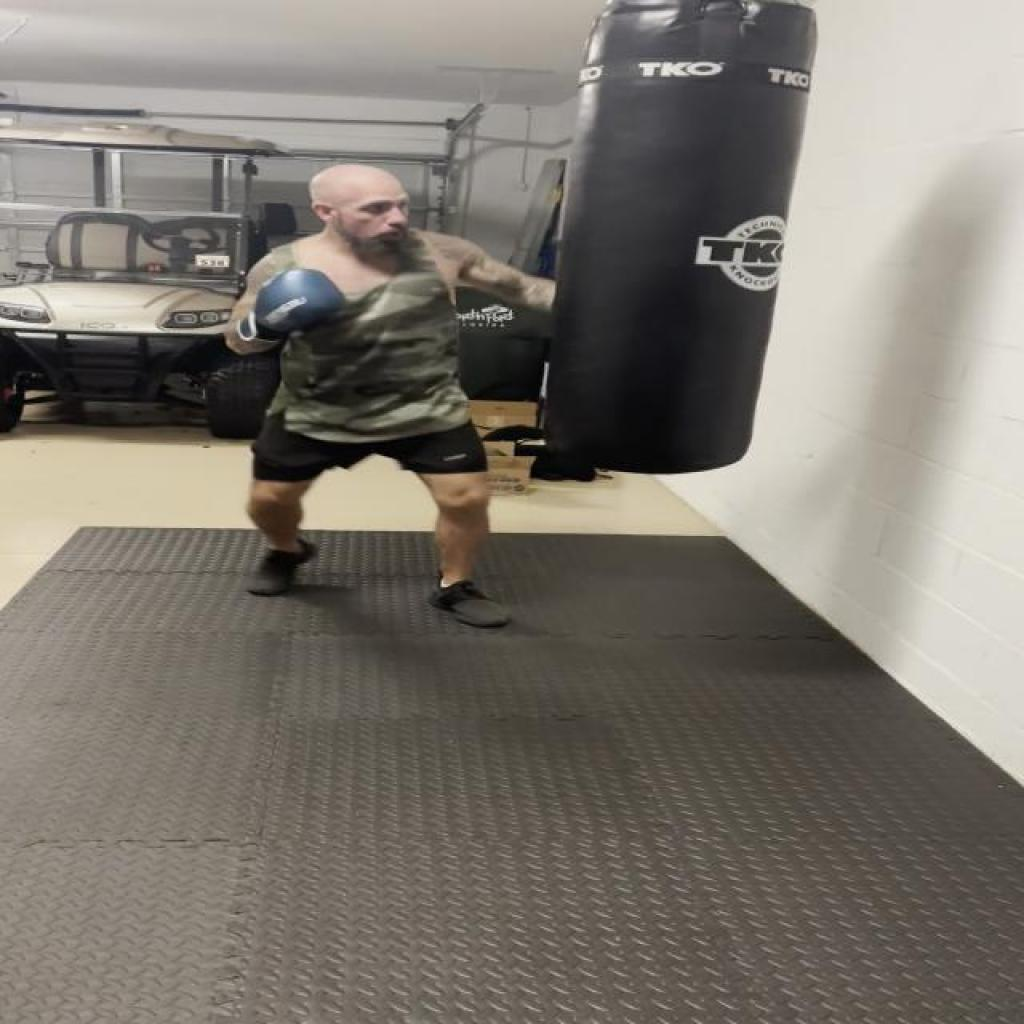bag: (582, 2, 794, 500)
hook: (222, 150, 586, 374)
